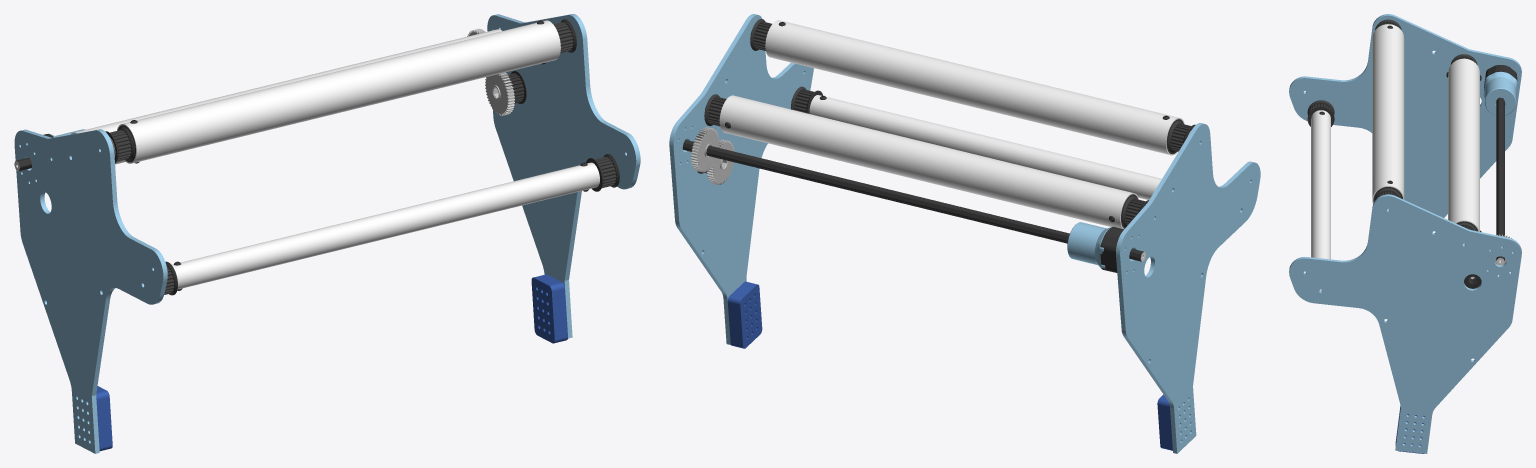
The model's file is intake.glb.
The picture shows the model from 3 angles, left to right: view 1: azimuth 30°, elevation 25°; view 2: azimuth 150°, elevation 25°; view 3: azimuth 270°, elevation 25°; orthographic projection. The views are drawn at different scales.
Visible parts, largest first — view 1: Part 1 (×4), Deadaxle Tube_24_in (×3), Roller Endcap_Double HTD_24_Tooth_Square Nut (×2), 45t Steel Spur Gear (20 DP, 1/2" Hex Bore); view 2: Deadaxle Tube_24_in (×3), Part 1 (×4), 1/2" Rounded Hex (27.625" L, 13.75mm OD), 45t Steel Spur Gear (20 DP, 1/2" Hex Bore) (×2), id212, SPARK Flex Brushless Motor Controller, Roller Endcap_Double HTD_24_Tooth_Square Nut; view 3: Part 1 (×2), Deadaxle Tube_24_in (×3), 1/2" Rounded Hex (27.625" L, 13.75mm OD), id212, Roller Endcap_Double HTD_24_Tooth_Square Nut, SPARK Flex Brushless Motor Controller.
Boxes of the visible parts, x1,y1,x2,y2 form: Part 1 (×4): (14,14,640,453); Deadaxle Tube_24_in (×3): (71,20,599,289); Roller Endcap_Double HTD_24_Tooth_Square Nut (×2): (105,125,619,191); 45t Steel Spur Gear (20 DP, 1/2" Hex Bore): (485,72,514,115); Deadaxle Tube_24_in (×3): (719,20,1184,229); Part 1 (×4): (669,14,1260,453); 1/2" Rounded Hex (27.625" L, 13.75mm OD): (682,139,1145,261); 45t Steel Spur Gear (20 DP, 1/2" Hex Bore) (×2): (691,127,734,184); id212: (1067,222,1112,269); SPARK Flex Brushless Motor Controller: (1100,226,1123,272); Roller Endcap_Double HTD_24_Tooth_Square Nut: (1166,119,1195,154); Part 1 (×2): (1289,14,1521,453); Deadaxle Tube_24_in (×3): (1311,24,1479,259); 1/2" Rounded Hex (27.625" L, 13.75mm OD): (1496,97,1504,265); id212: (1483,71,1517,115); Roller Endcap_Double HTD_24_Tooth_Square Nut: (1307,100,1334,126); SPARK Flex Brushless Motor Controller: (1484,65,1517,89).
Bounding box in the file's own units: 0.7017 × 0.4586 × 0.3705.
